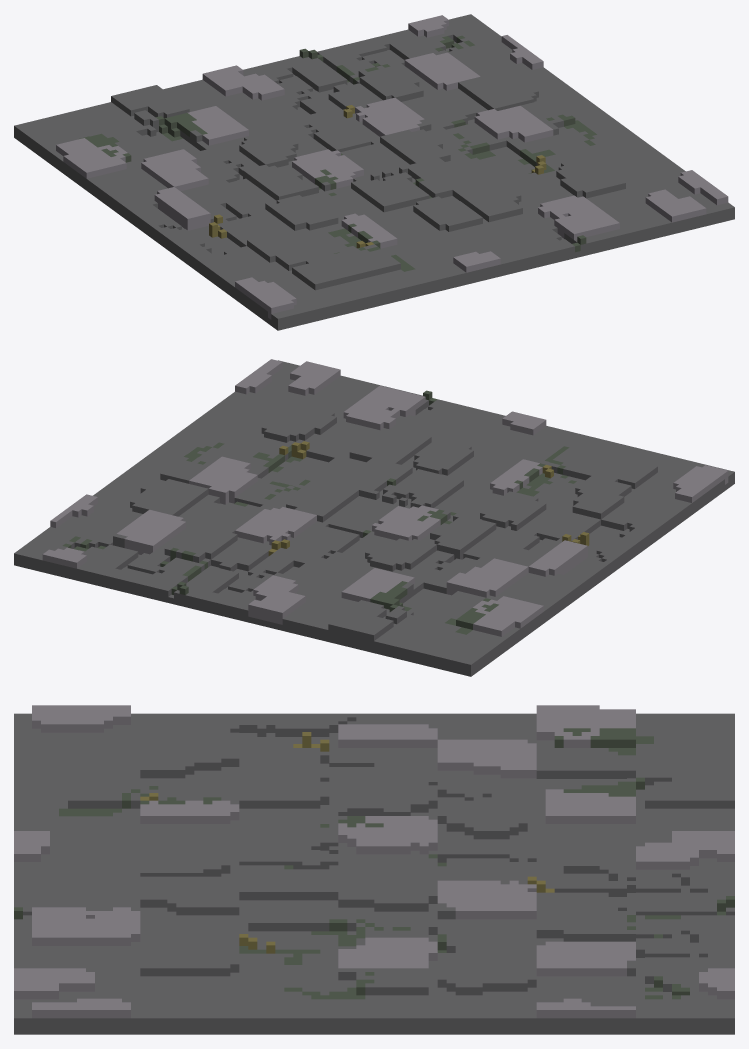
The model's file is Floor.obj.
The picture shows the model from 3 angles, top to bottom: view 1: azimuth 30°, elevation 25°; view 2: azimuth 150°, elevation 25°; view 3: azimuth 270°, elevation 25°; orthographic projection. The views are drawn at different scales.
Parts seen in each view (by area): view 1: HallWay; view 2: HallWay; view 3: HallWay.
Boxes of the visible parts, x1,y1,x2,y2 form: HallWay: (14,14,734,330); HallWay: (14,359,734,676); HallWay: (14,705,734,1034).
Bounding box in the file's own units: 8 × 0.3 × 8.
